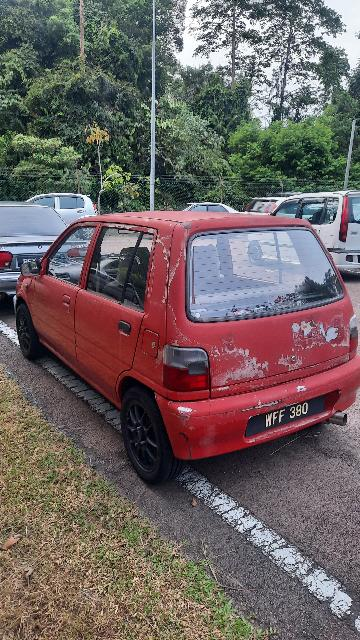License_Plate: (244, 393, 334, 440)
car: (14, 209, 360, 479)
